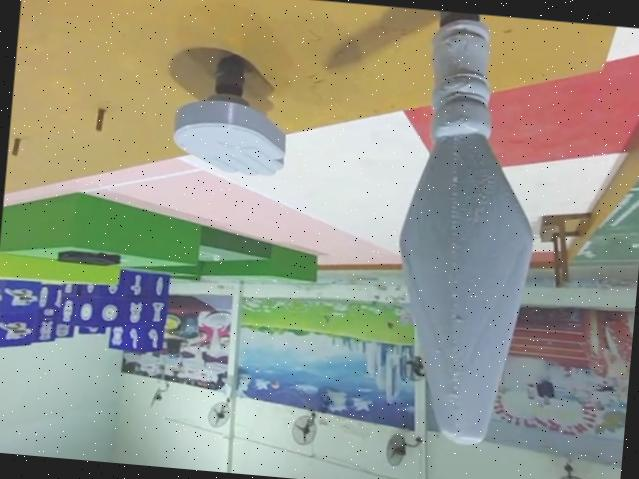Hand: (170, 41, 292, 179)
Sph: (364, 7, 561, 450)
